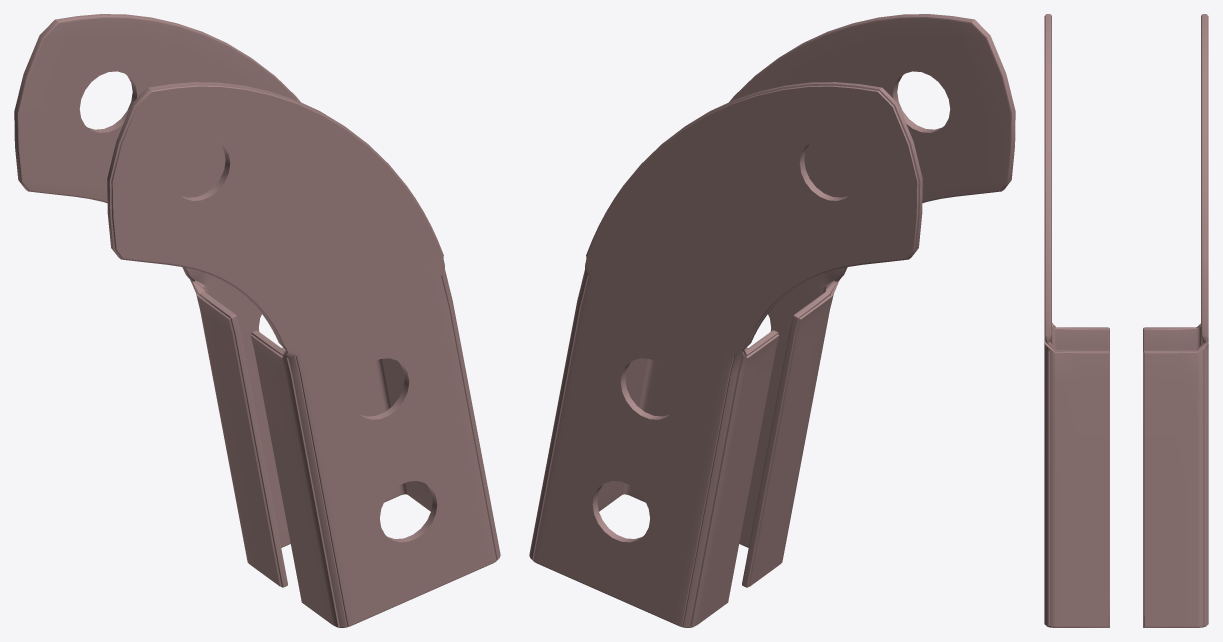
Rendered from table parts_09.fbx.
3 views of the same model, side by side, from view 1: azimuth 30°, elevation 25°; view 2: azimuth 150°, elevation 25°; view 3: azimuth 270°, elevation 25° (orthographic). The views are drawn at different scales.
Parts seen in each view (by area): view 1: hinge_base; view 2: hinge_base; view 3: hinge_base.
Part boxes in pixels (left/top/right/bottom): hinge_base: left=14, top=14, right=500, bottom=627; hinge_base: left=529, top=14, right=1015, bottom=627; hinge_base: left=1044, top=14, right=1208, bottom=627.
Bounding box in the file's own units: 2.01 × 2.85 × 0.8586.
